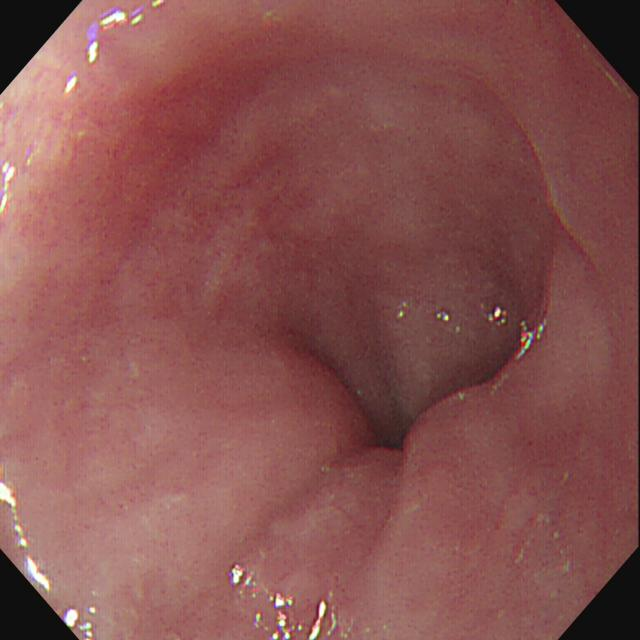U: (88, 10, 145, 65), (2, 483, 28, 550), (271, 593, 304, 640), (66, 606, 96, 640), (27, 556, 52, 593), (520, 320, 544, 358), (2, 162, 17, 215), (309, 601, 327, 640), (231, 565, 257, 589), (65, 74, 79, 94)
